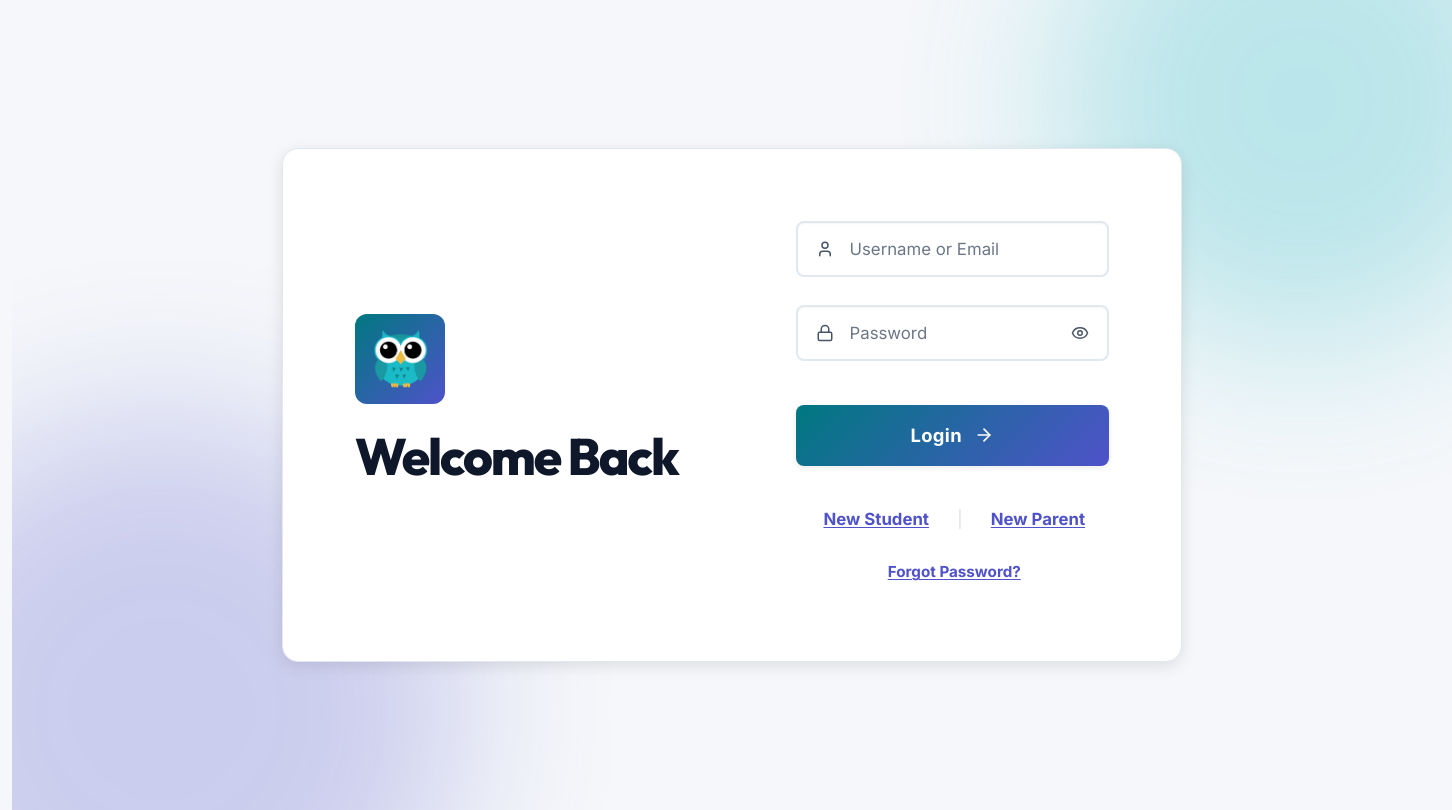
Test case: Login Component › where the user is sent › goes back to the page the user was bounced from
Type "testuser" into the field with placeholder "Username or Email" at (952, 249), box [796, 221, 1109, 277]
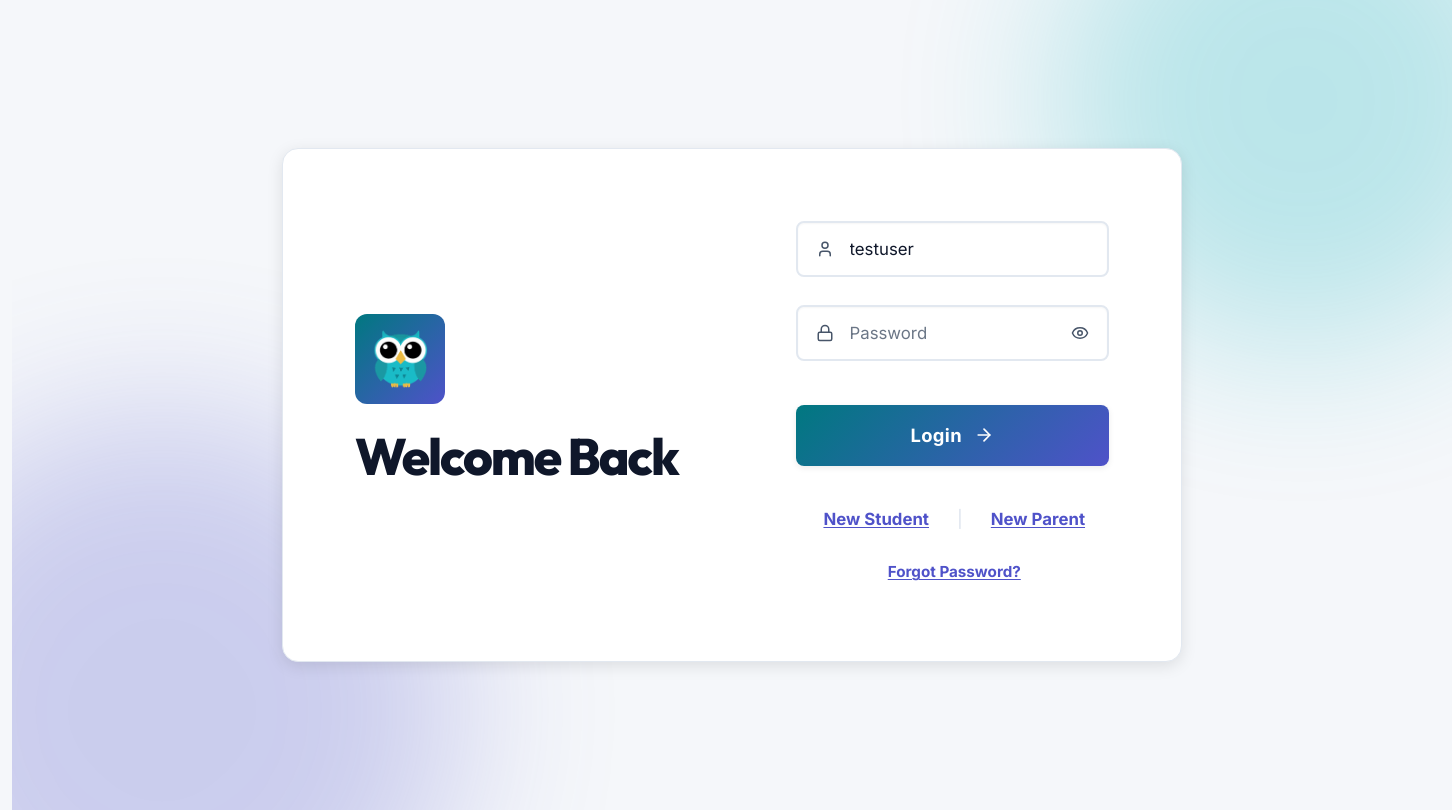
Type "password123" into the password field with placeholder "Password" at (952, 333), box [796, 305, 1109, 361]
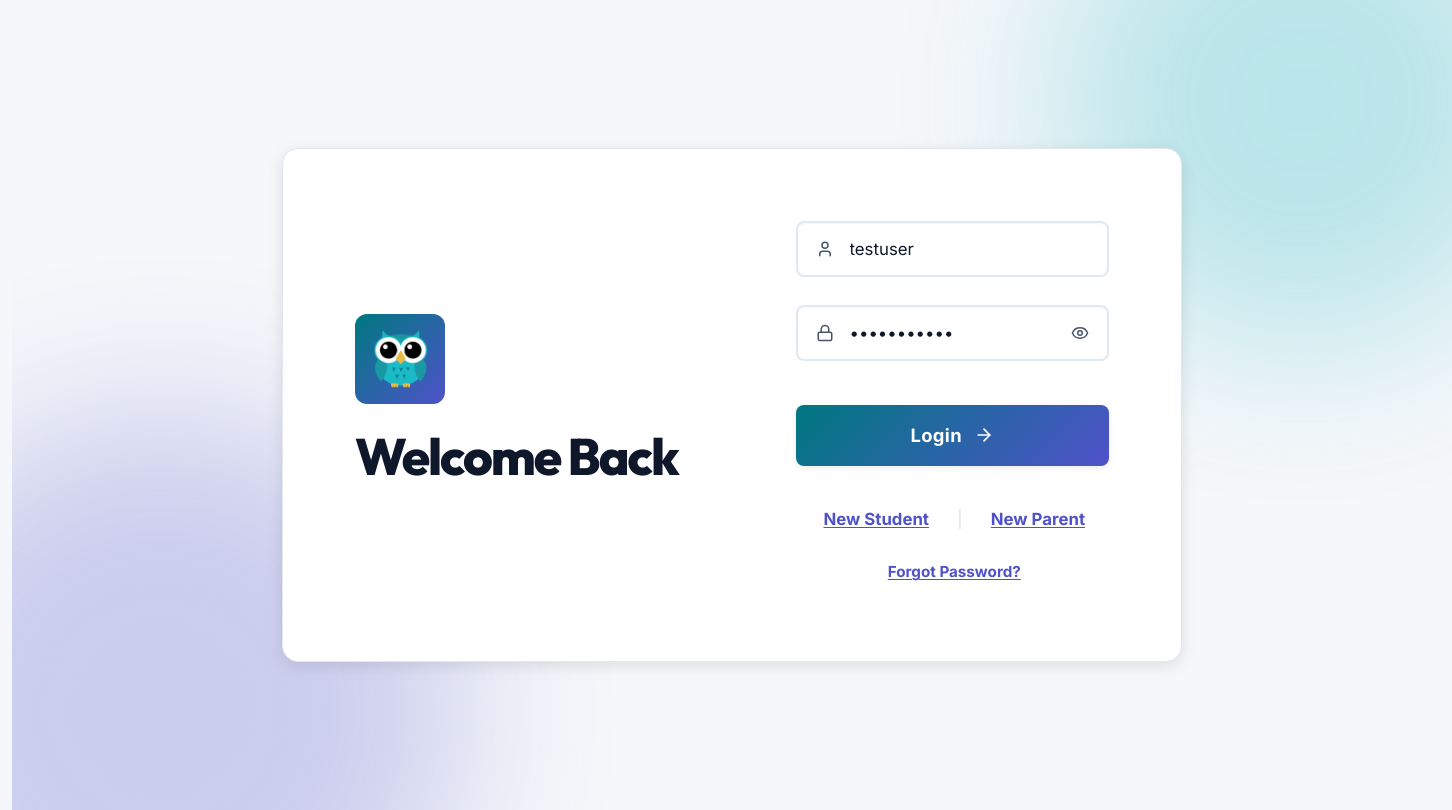
Click the button "Login" at (952, 435), box [796, 405, 1109, 466]
(page scrolled)
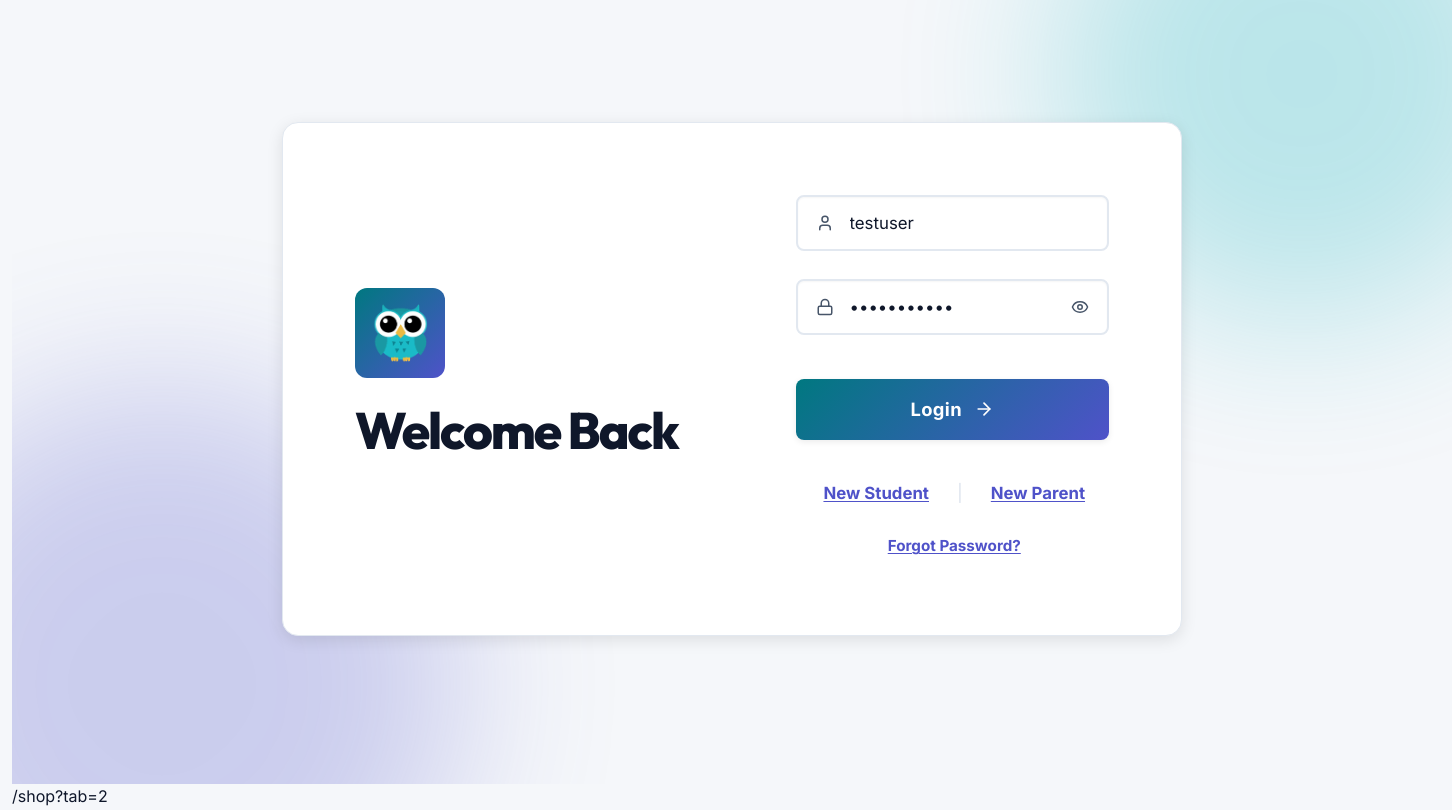
Expected: the text with test id "where" reads "/shop?tab=2", [12, 786, 108, 806]
